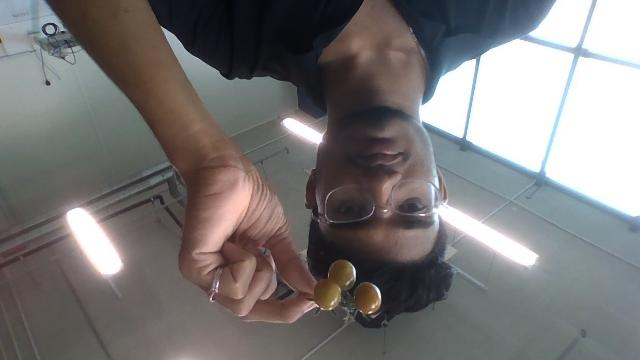Fully Grown: (312, 277, 343, 312), (353, 281, 383, 315), (327, 259, 357, 292)
